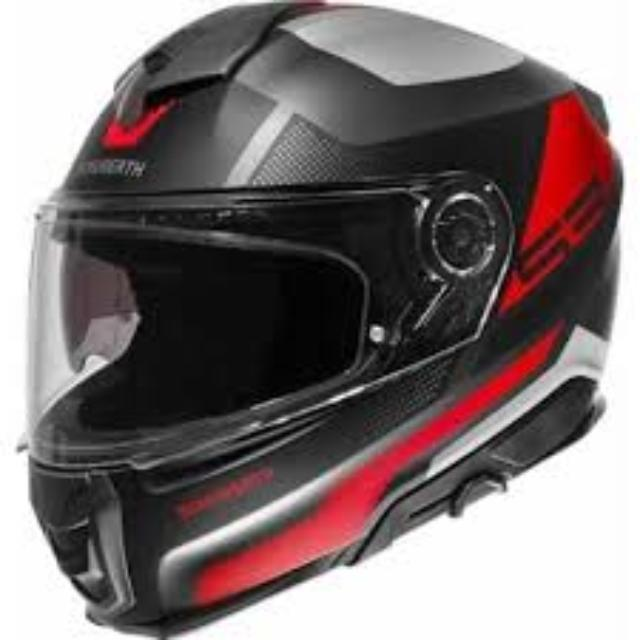motorcycle-helmets: (8, 2, 626, 632)
